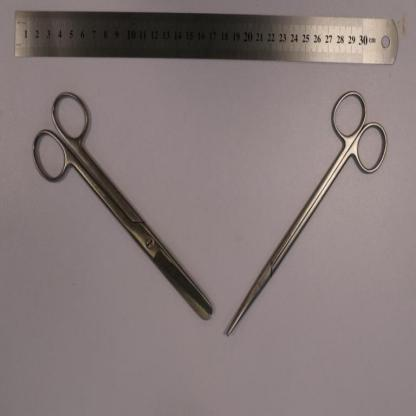7 Metzenbaum Scissors: (227, 88, 389, 338)
Dressing Scissors: (31, 91, 214, 322)
